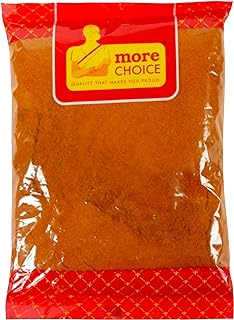Chilli Powder: (1, 4, 234, 320)
